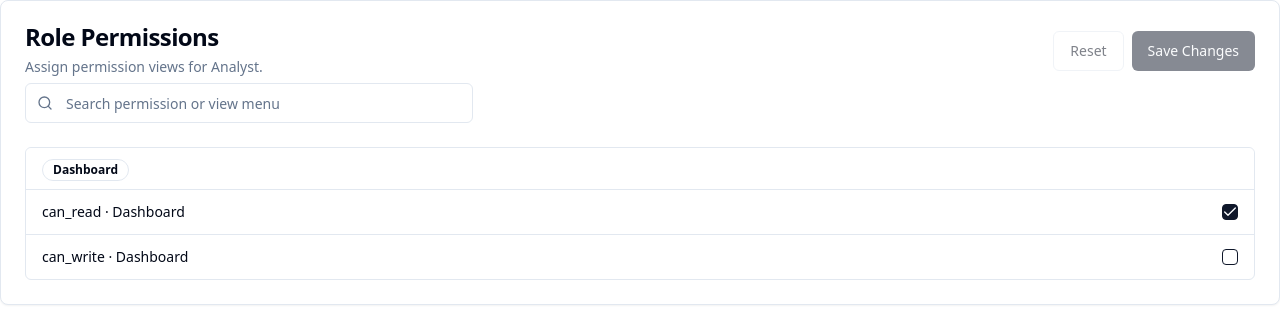
Test case: RolePermissionsPage › tracks unsaved changes and enables Save
What coordinates should you click on to do the following:
click the checkbox named "can_write Dashboard"
I would click on:
 (1230, 257)
Its box is [1222, 249, 1238, 265].
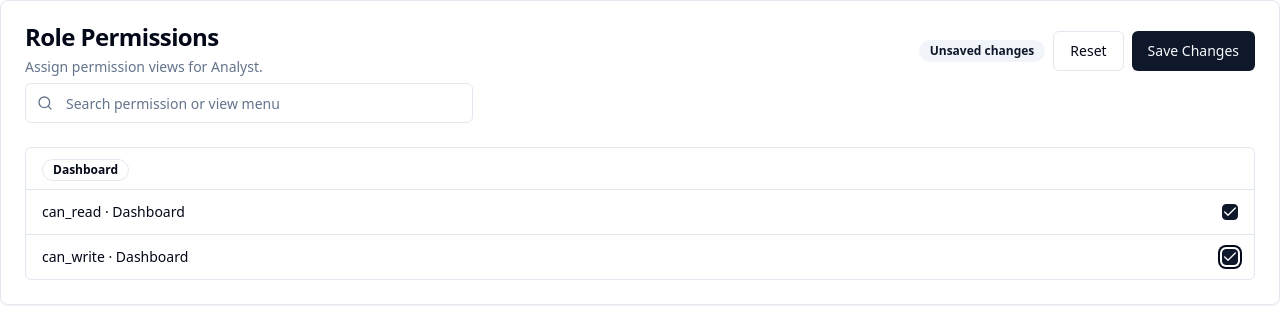
Check: the text "Unsaved changes" is shown, box [919, 40, 1045, 62]
Check: the button "Save Changes" is enabled, box [1132, 31, 1255, 71]
